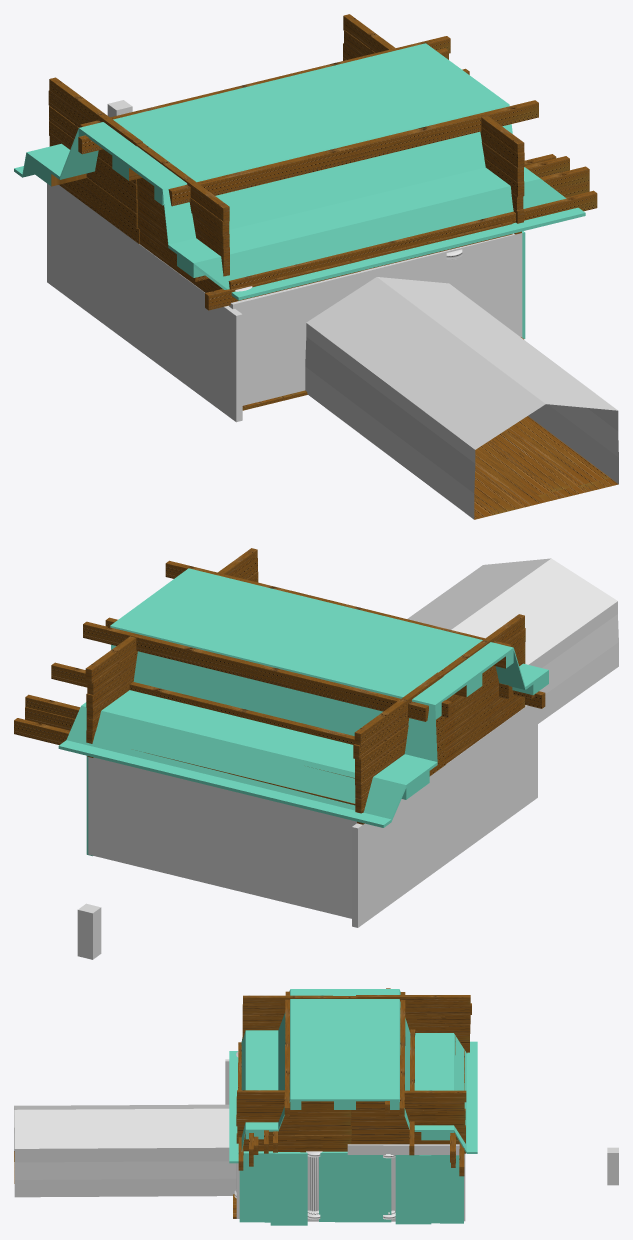
File: room_1_vr_game.fbx
3 views of the same model, one above another, from view 1: azimuth 30°, elevation 25°; view 2: azimuth 150°, elevation 25°; view 3: azimuth 270°, elevation 25° (orthographic). The views are drawn at different scales.
Visible parts, largest first — view 1: Cube.001, Cube.011, Cube.004, Cube.045, Cube.038, Cube.027, Cube.033, Cube.052, Cube.015, Cube.030, Cube.028, Cube.025 (+1 smaller); view 2: Cube.011, Cube.003, Cube.004, Cube.001, Cube.045, Cube.052, Cube.055, Cube.033, Cube.038, Cube.002, Cube.024, Cube.030 (+3 smaller); view 3: Cube.011, Cube.001, Cube.045, Cube.021, Cube.006, Cube.016, Cube.009, Cube.008, Cube.034, Cube.033, Cube.032, Cube.052 (+7 smaller).
Boxes of the visible parts, box(x1,y1,x2,y2) form: Cube.001: box(229, 233, 618, 519); Cube.011: box(14, 43, 585, 300); Cube.004: box(47, 183, 242, 422); Cube.045: box(49, 14, 524, 292); Cube.038: box(168, 100, 538, 206); Cube.027: box(228, 190, 597, 289); Cube.033: box(49, 77, 142, 146); Cube.052: box(80, 36, 450, 127); Cube.015: box(205, 258, 361, 310); Cube.030: box(49, 121, 137, 199); Cube.028: box(72, 177, 137, 228); Cube.025: box(540, 166, 589, 191); Cube.011: box(58, 568, 548, 827); Cube.003: box(88, 757, 356, 918); Cube.004: box(352, 705, 537, 927); Cube.001: box(407, 558, 618, 723); Cube.045: box(85, 548, 525, 824); Cube.052: box(83, 621, 428, 721); Cube.055: box(51, 662, 354, 744); Cube.033: box(354, 672, 443, 747); Cube.038: box(165, 560, 511, 646); Cube.002: box(77, 903, 101, 959); Cube.024: box(14, 718, 355, 805); Cube.030: box(355, 716, 444, 786); Cube.011: box(229, 989, 477, 1163); Cube.001: box(14, 1104, 239, 1218); Cube.045: box(236, 995, 470, 1144); Cube.021: box(319, 1151, 391, 1222); Cube.006: box(395, 1155, 431, 1224); Cube.016: box(239, 1151, 275, 1222); Cube.009: box(270, 1152, 307, 1225); Cube.008: box(431, 1155, 463, 1223); Cube.034: box(347, 1144, 459, 1155); Cube.033: box(356, 995, 470, 1005); Cube.032: box(405, 1003, 471, 1014); Cube.052: box(399, 992, 405, 1117).
Bounding box in the file's own units: 1732 × 838 × 3390.
10 materials, 3 textured.
